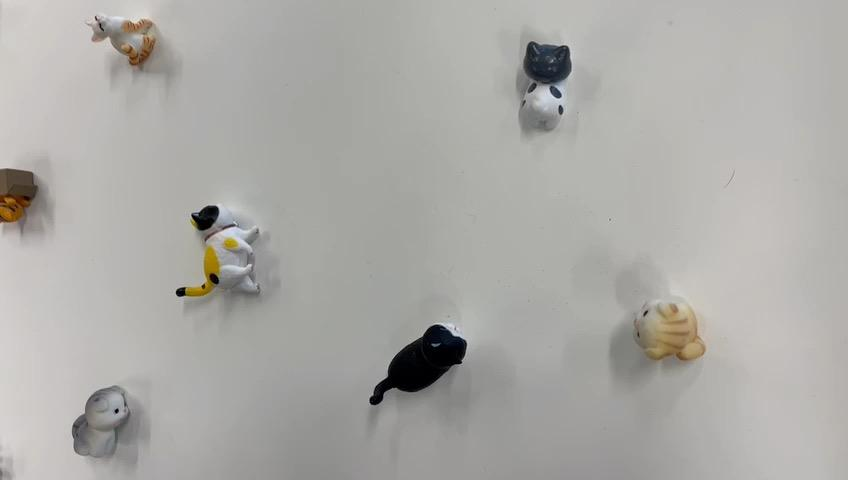pet: (346, 304, 475, 427), (163, 194, 278, 323), (508, 14, 592, 146), (78, 0, 183, 94), (68, 356, 146, 462), (3, 136, 51, 264), (641, 279, 707, 370)
